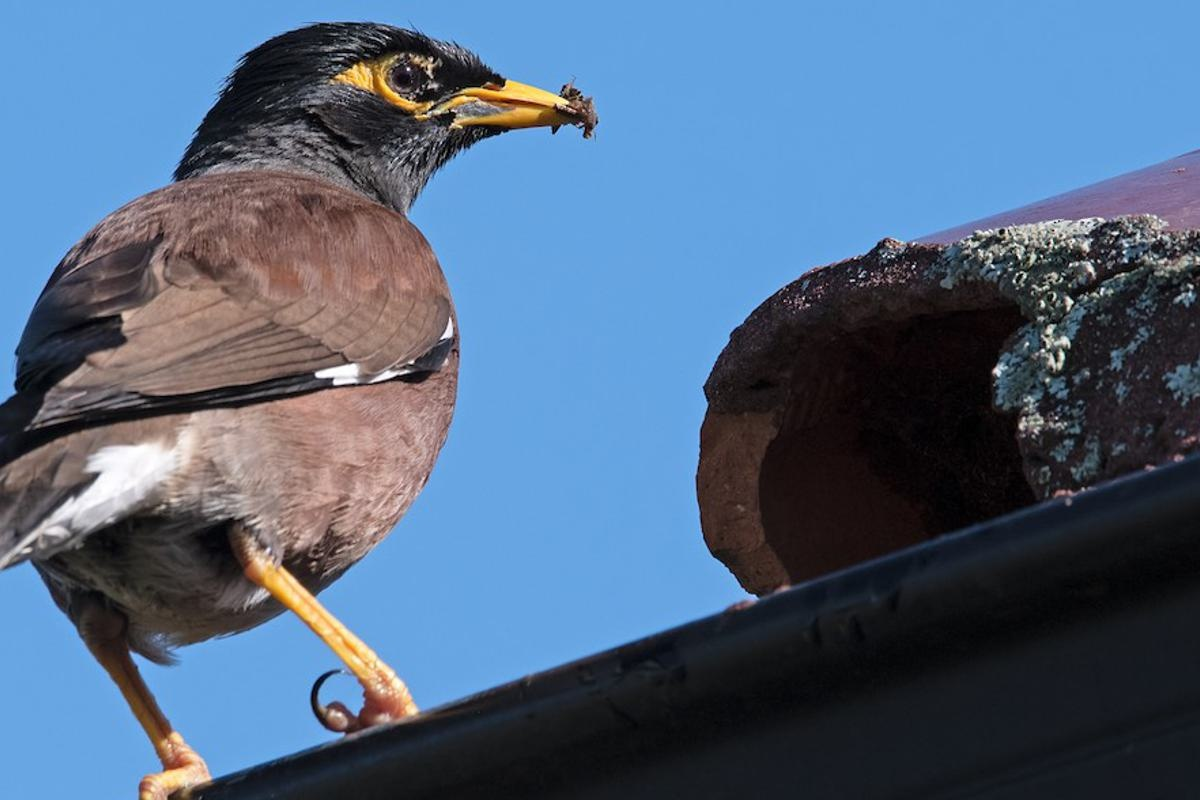myna: (1, 23, 613, 794)
